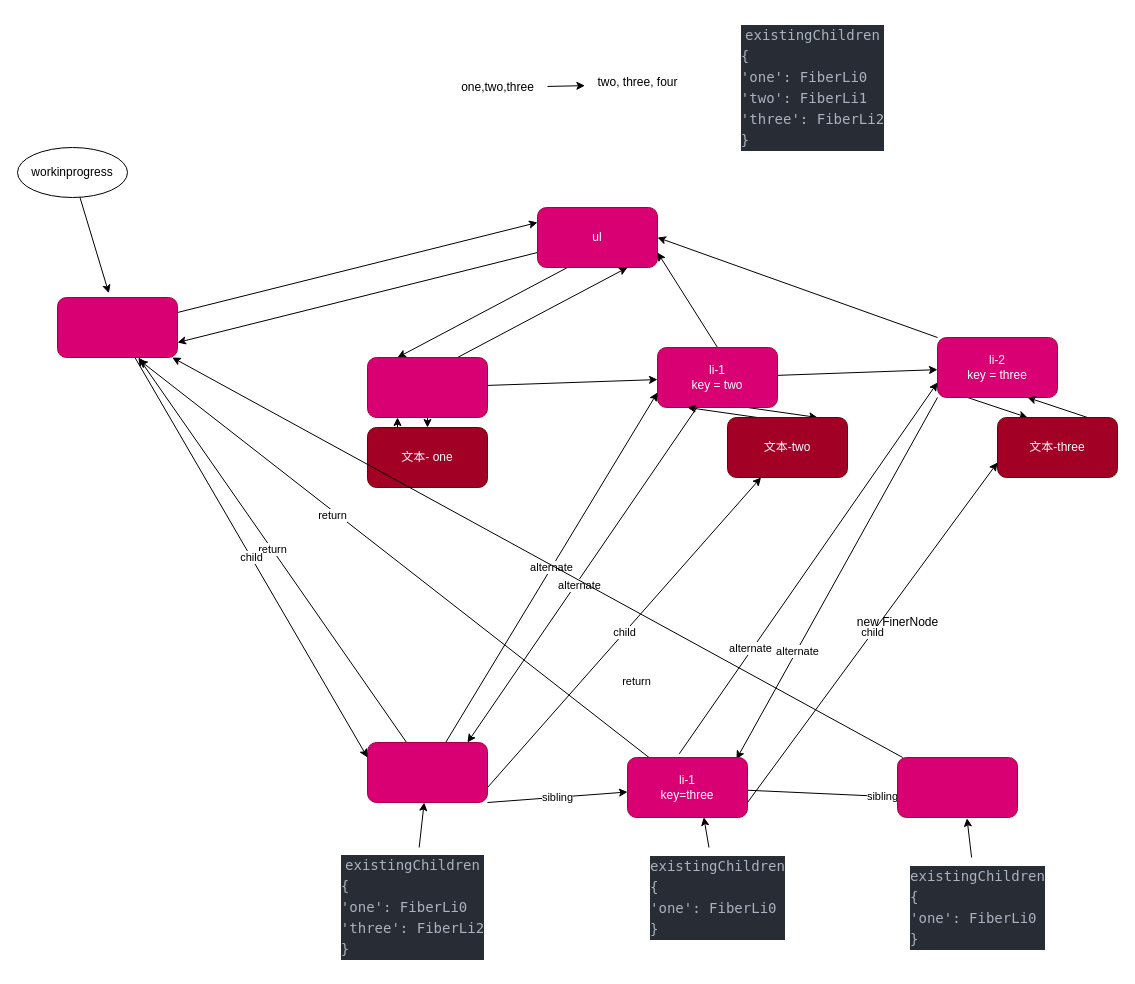
Image size: 1135x984. Some labels were removed from this diagram. The centre of each missing label's shape, as x and y in pixels:
li-0 key = one: pixel 427 387
li-0 key=two: pixel 427 772
li-2 key=four: pixel 957 787
ul wip: pixel 117 327
